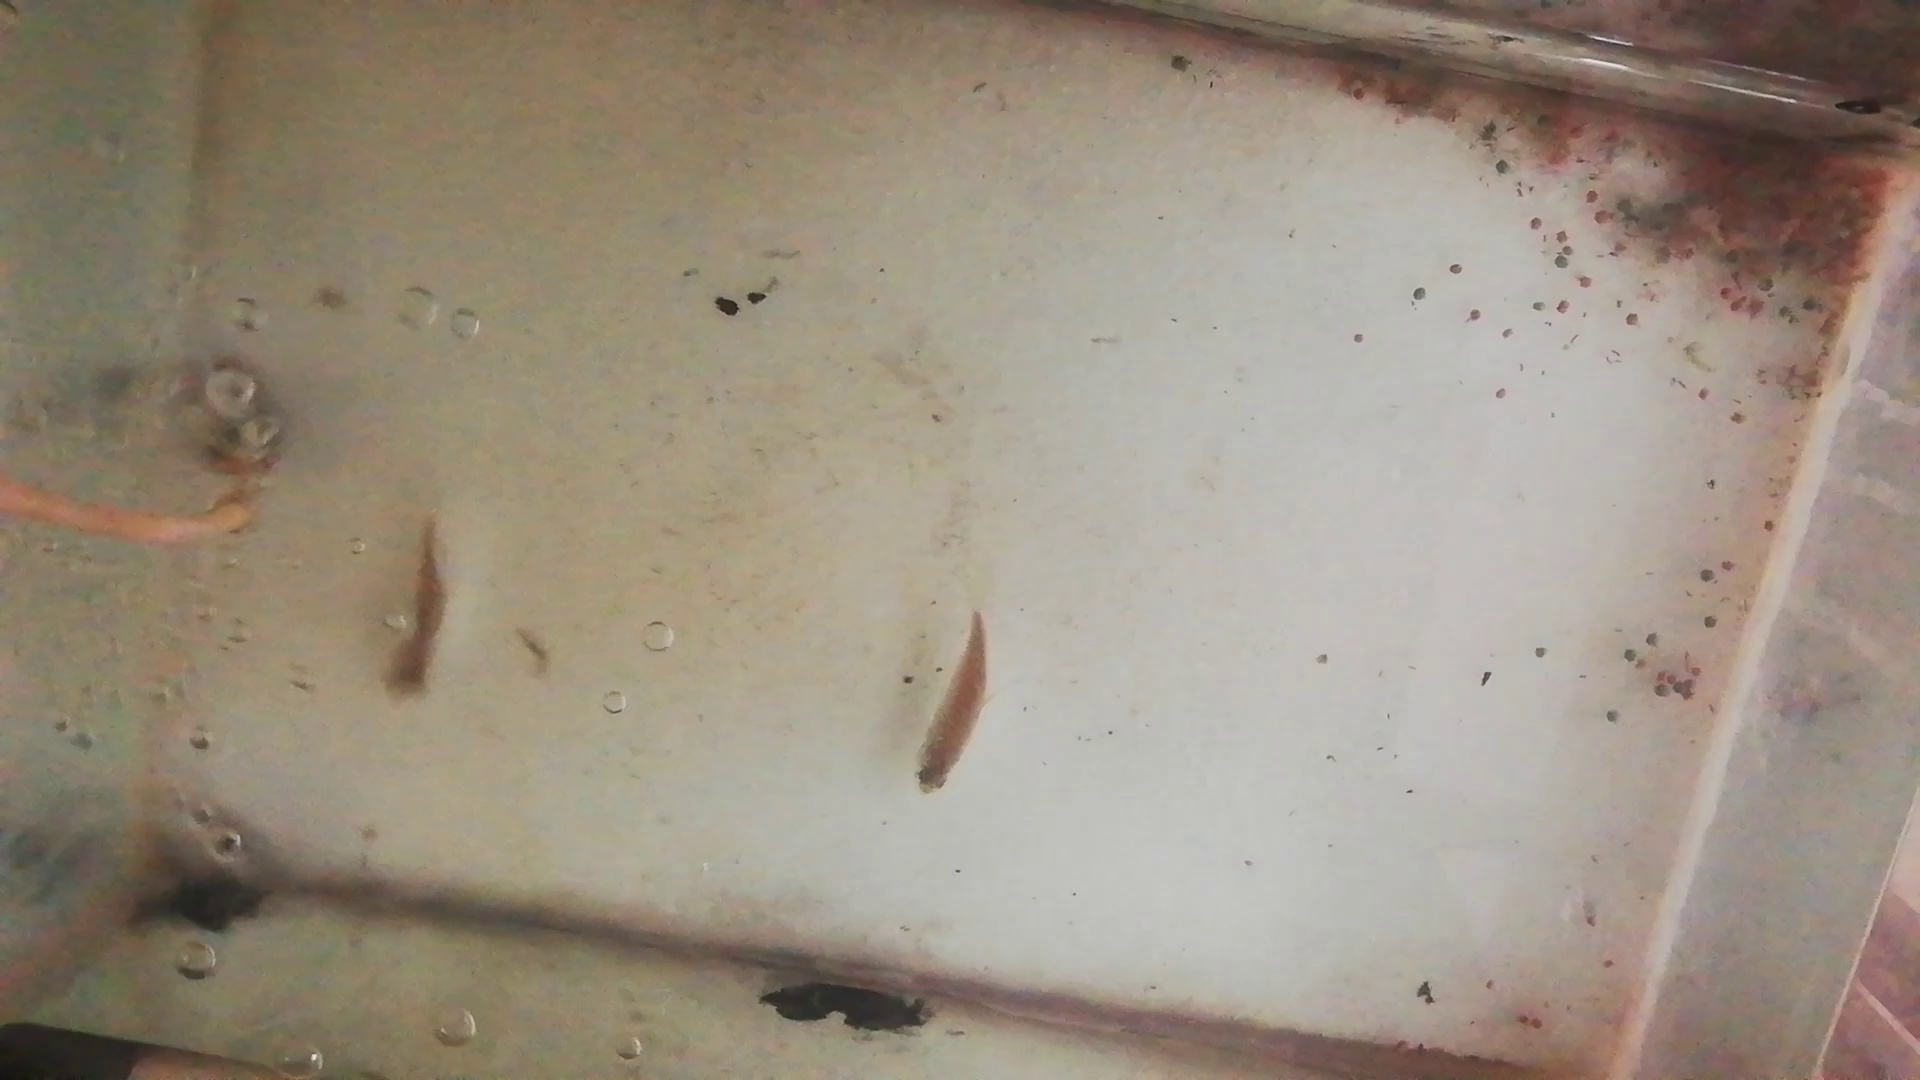fish: (909, 609, 993, 793), (381, 516, 448, 704)
